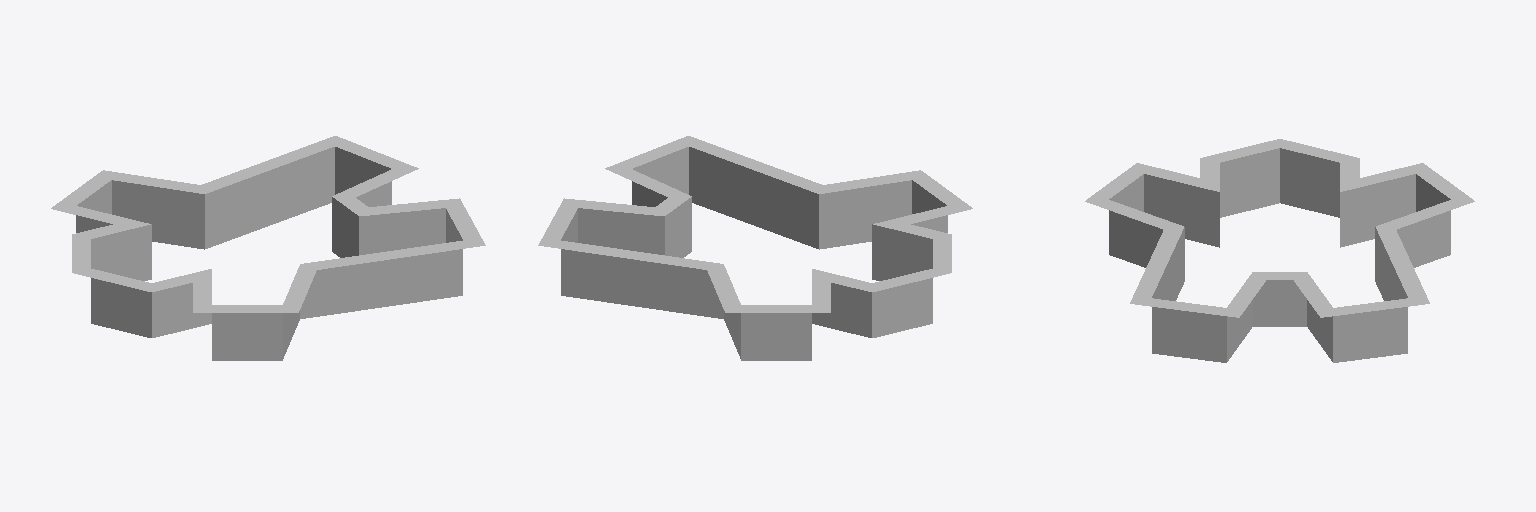
Rendered from ginger-bread-cutter.obj.
The picture shows the model from 3 angles: view 1: azimuth 30°, elevation 25°; view 2: azimuth 150°, elevation 25°; view 3: azimuth 270°, elevation 25°; orthographic projection.
Parts seen in each view (by area): view 1: ginger-bread-cutter; view 2: ginger-bread-cutter; view 3: ginger-bread-cutter.
Boxes of the visible parts, x1,y1,x2,y2 form: ginger-bread-cutter: [51, 136, 485, 360]; ginger-bread-cutter: [538, 136, 972, 360]; ginger-bread-cutter: [1085, 139, 1474, 362].
Size of the model in its own units: 0.2919 by 0.042 by 0.2693.